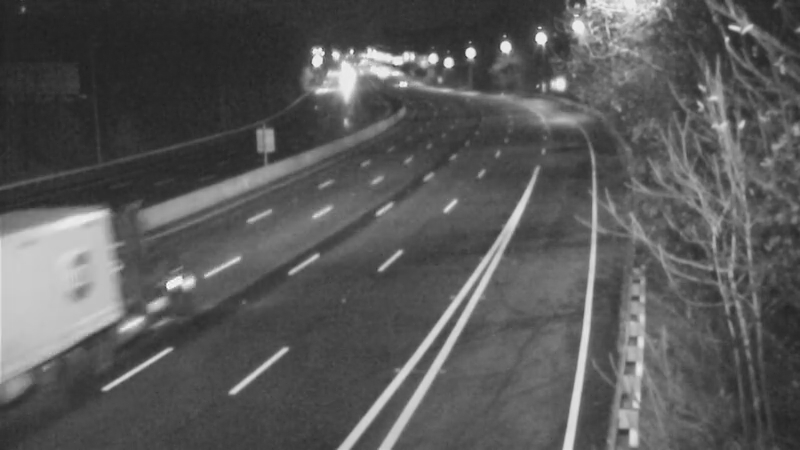vehicle: (34, 250, 114, 330), (375, 57, 425, 107)
